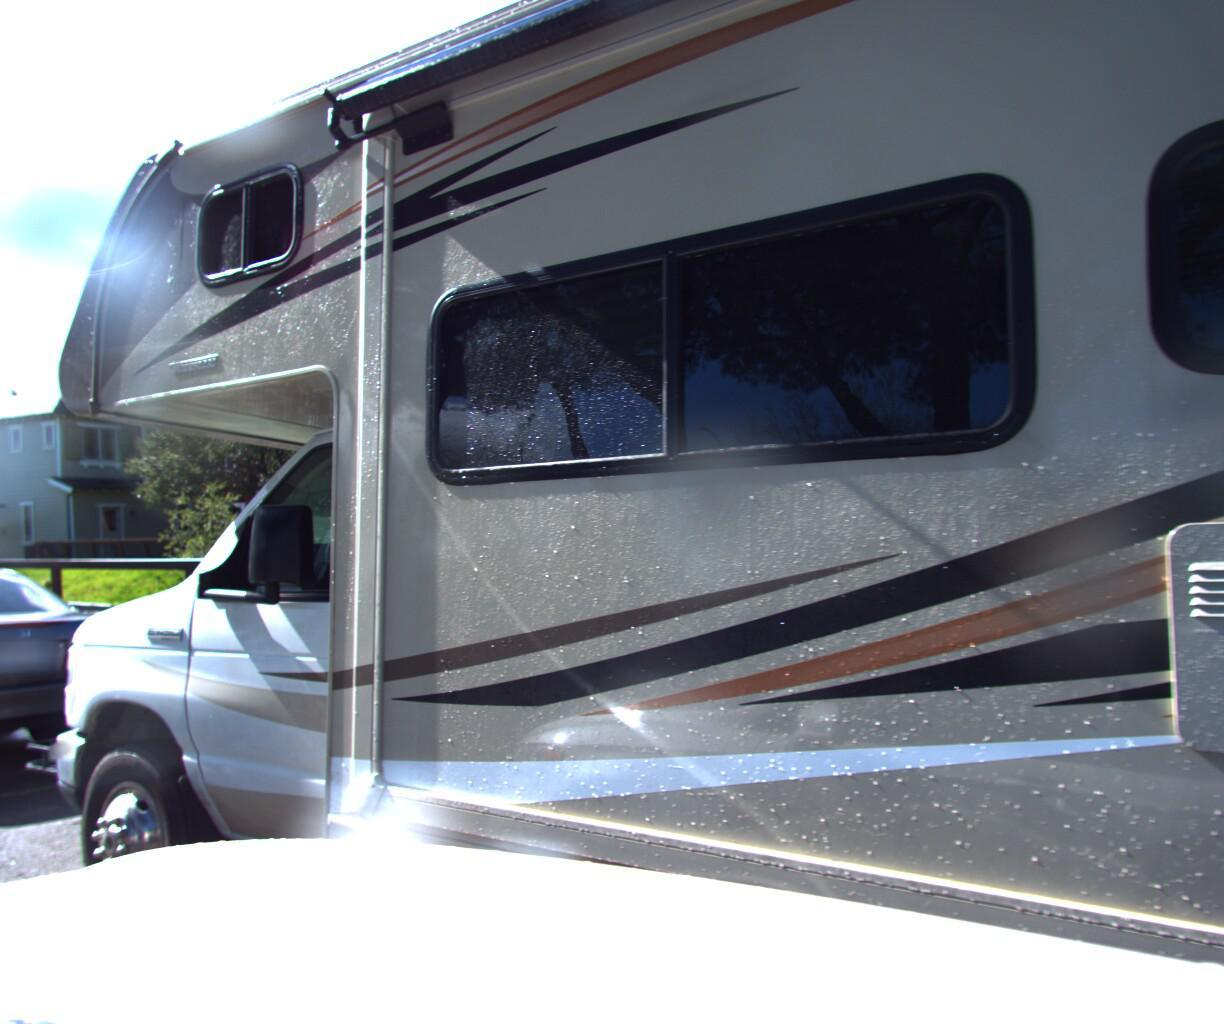car: (0, 556, 151, 834)
